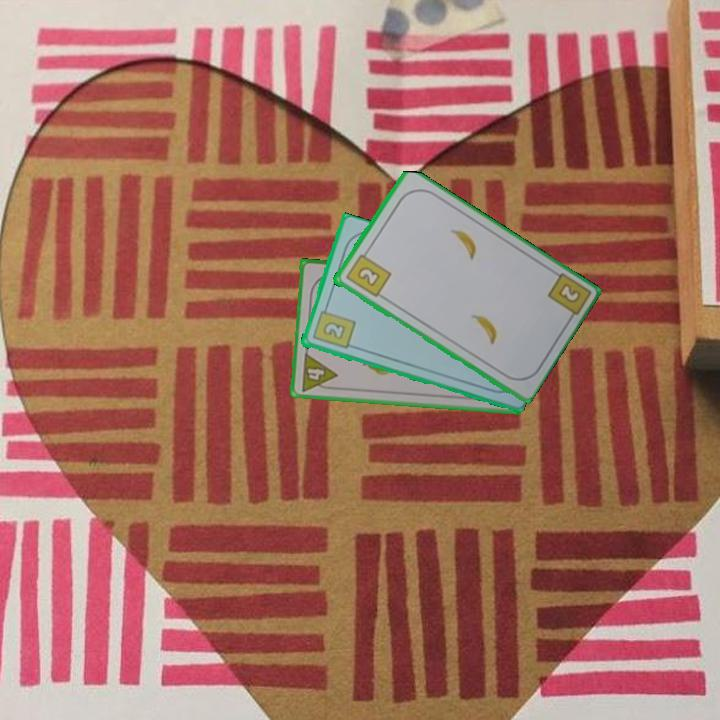2b: (342, 246, 393, 300), (309, 302, 357, 352), (554, 279, 581, 304)
4p: (297, 349, 340, 394)
